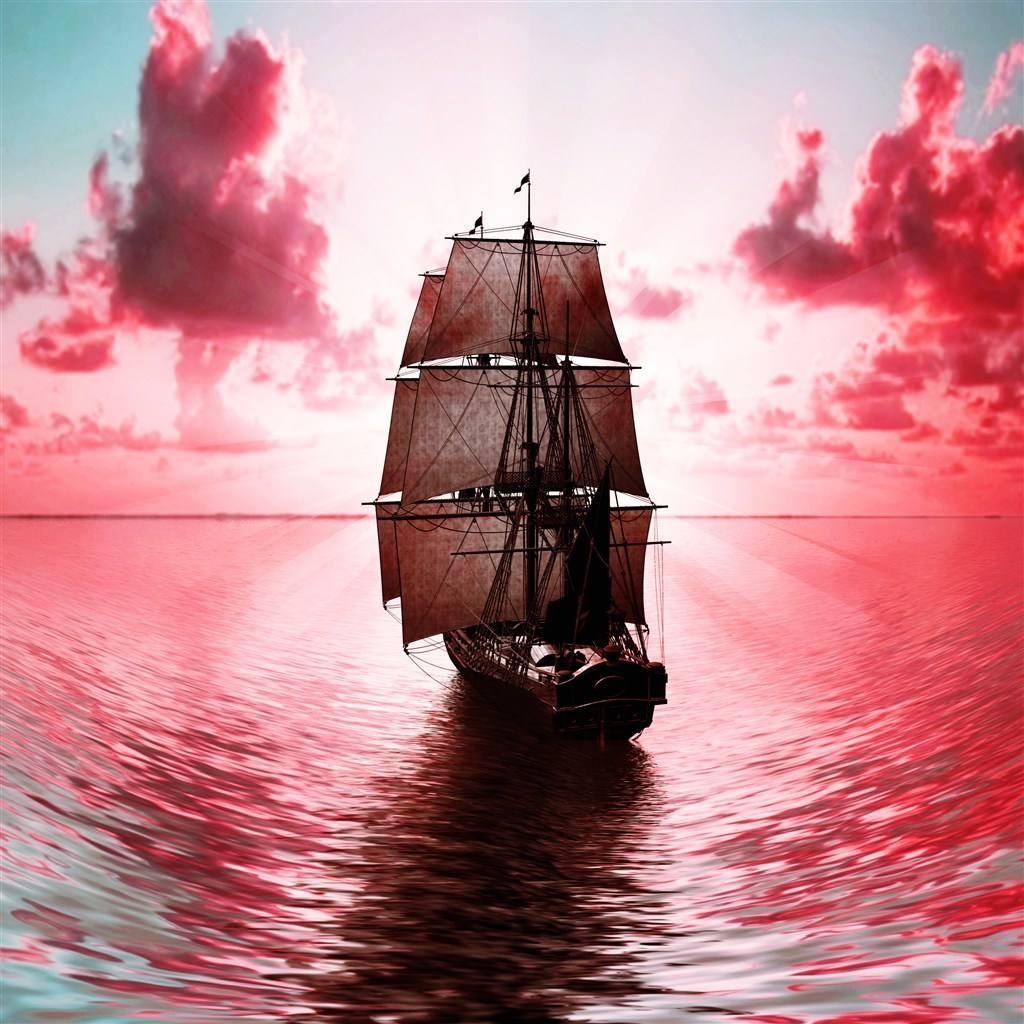fanchuan: (374, 168, 702, 759)
